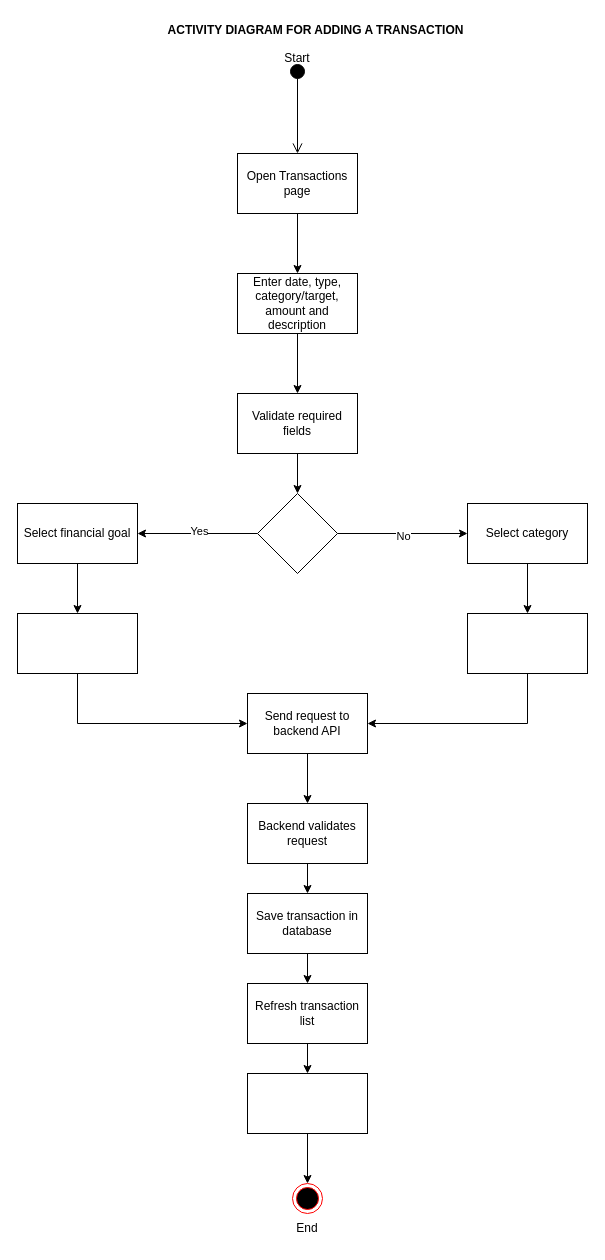
Image size: 605x1260. Some labels were removed from this diagram. The shapes that lost their labels are listed below. From the top down, each one's centre as x and y in pixels, then its label:
pixel 297 533: is Transfer or Withdraw?
pixel 77 643: Validate selected target
pixel 527 643: Validate selected category
pixel 307 1103: Refresh balance, goals and charts
